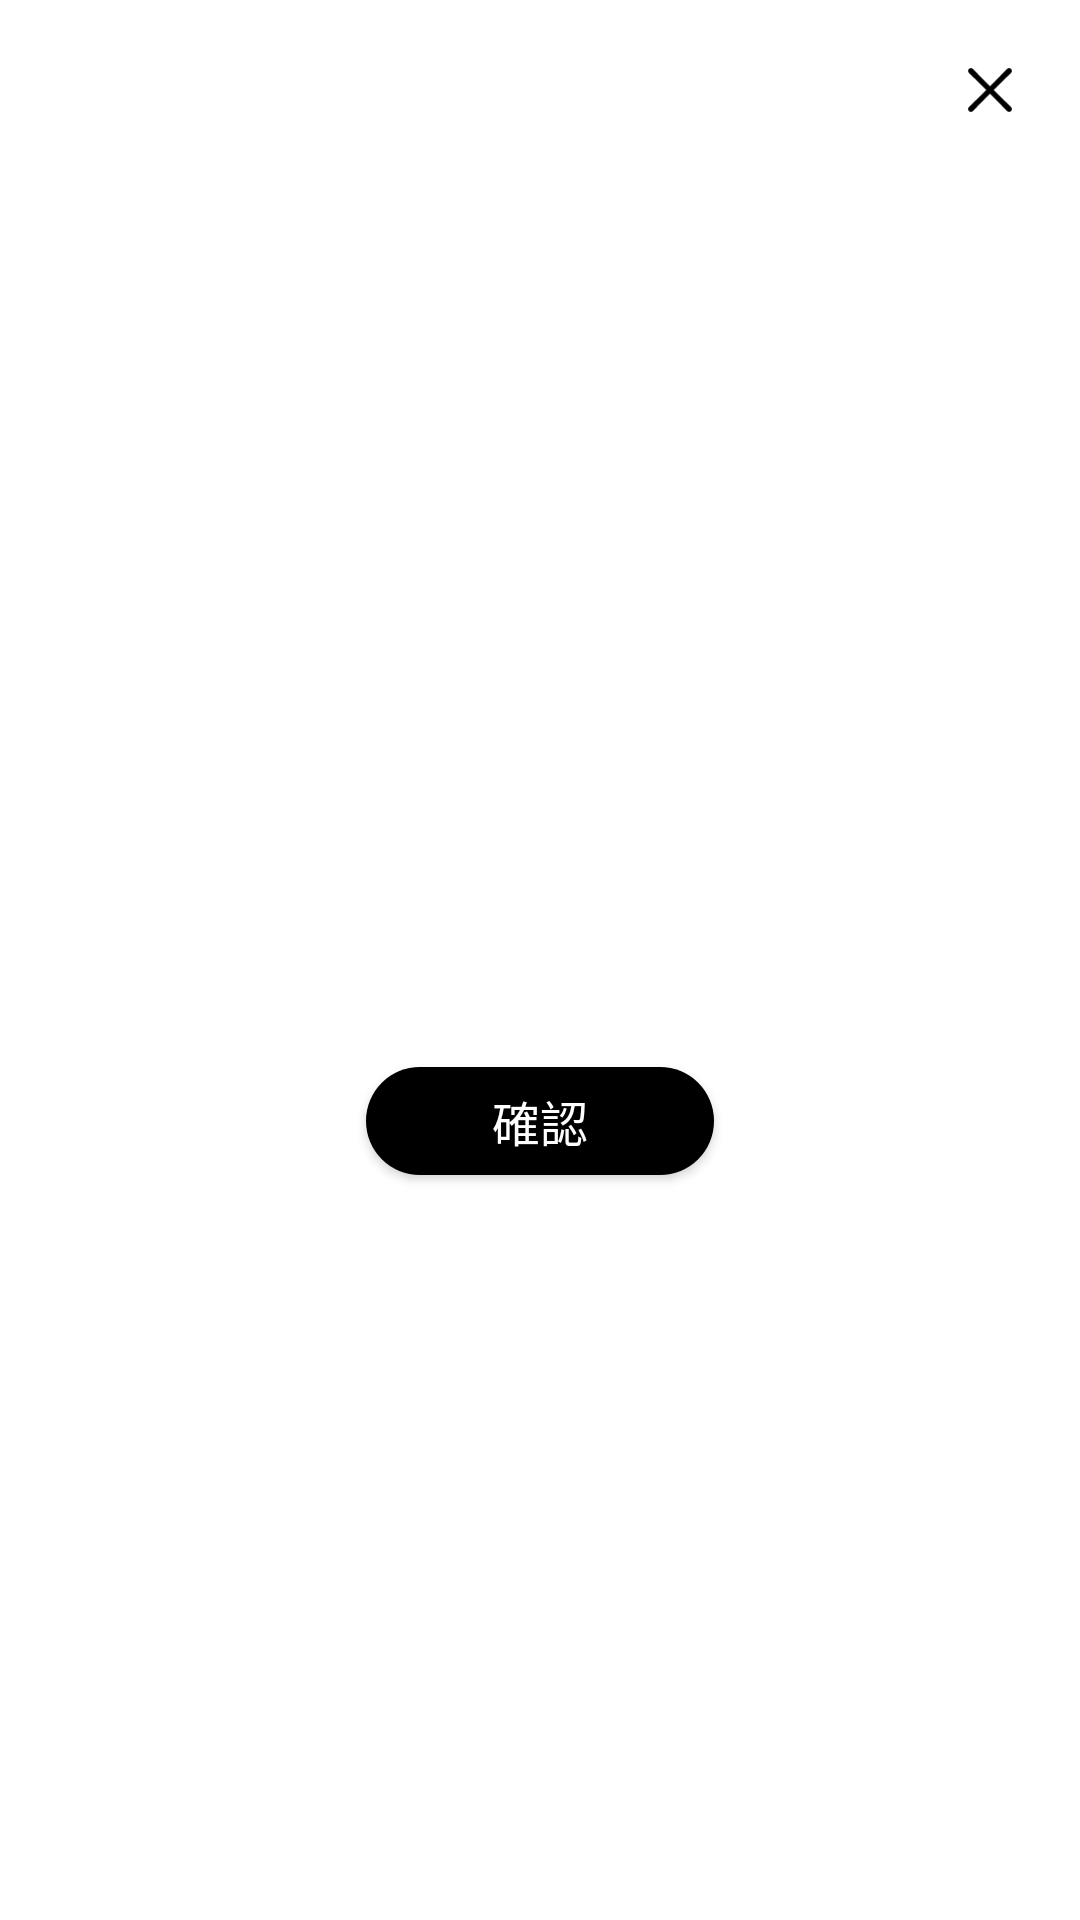

Where to tap for icons on this 1080 × 1920 app screen, as (x=x, y=y):
cancel: (x=990, y=90)
